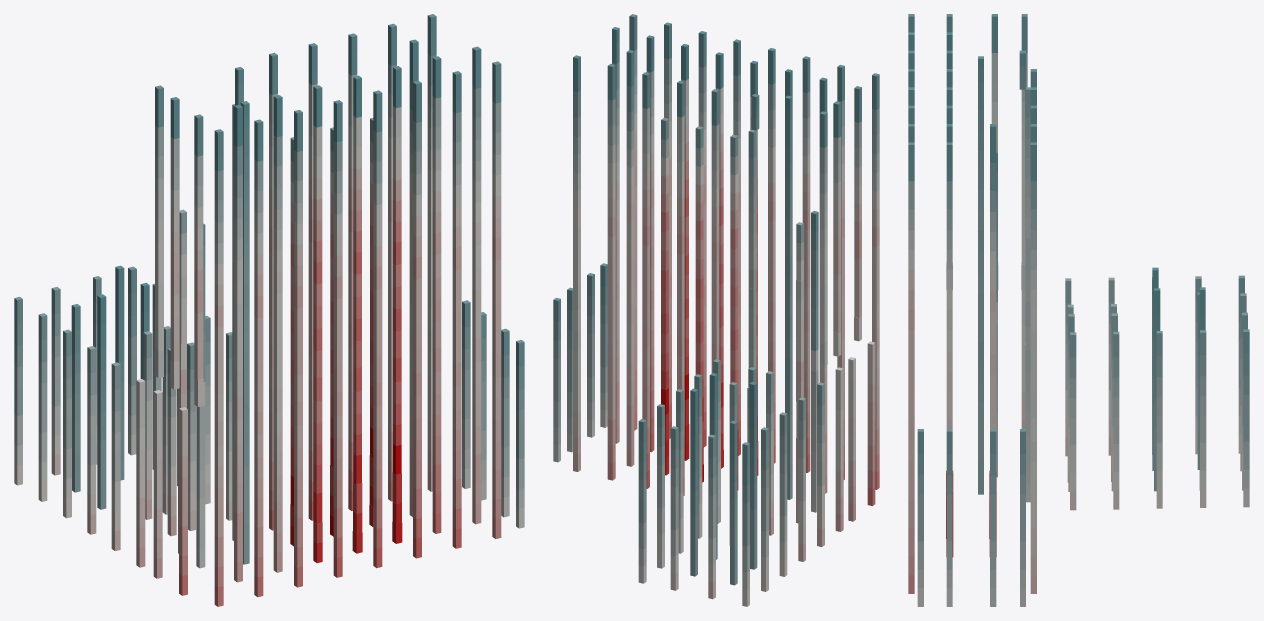
File: Rect-SRC_Fs310MPa.glb
3 views of the same model, side by side, from view 1: azimuth 30°, elevation 25°; view 2: azimuth 150°, elevation 25°; view 3: azimuth 270°, elevation 25° (orthographic). The views are drawn at different scales.
Parts seen in each view (by area): view 1: ACS_0180, ACS_0211, ACS_0182, ACS_0187, ACS_0247, ACS_0540, ACS_0243, ACS_0195; view 2: ACS_0180, ACS_0211, ACS_0149, ACS_0248, ACS_0187, ACS_0258, ACS_0198, ACS_0212, ACS_0175, ACS_0228, ACS_0265, ACS_0266 (+2 smaller); view 3: ACS_0180, ACS_0211, ACS_0149, ACS_0248, ACS_0182, ACS_0228.
Part boxes in pixels (x1,y1,x2,y2): ACS_0180: [243, 242, 249, 446]; ACS_0211: [243, 262, 249, 564]; ACS_0182: [492, 215, 501, 399]; ACS_0187: [294, 264, 302, 468]; ACS_0247: [273, 292, 282, 387]; ACS_0540: [97, 438, 106, 509]; ACS_0243: [214, 326, 223, 467]; ACS_0195: [273, 249, 282, 433]; ACS_0180: [785, 218, 792, 396]; ACS_0211: [785, 236, 792, 499]; ACS_0149: [748, 212, 756, 350]; ACS_0248: [573, 227, 580, 350]; ACS_0187: [802, 191, 810, 369]; ACS_0258: [626, 241, 634, 363]; ACS_0198: [607, 198, 615, 358]; ACS_0212: [626, 202, 634, 381]; ACS_0175: [819, 227, 827, 323]; ACS_0228: [573, 208, 580, 411]; ACS_0265: [642, 264, 649, 327]; ACS_0266: [677, 272, 684, 335]; ACS_0180: [978, 190, 983, 382]; ACS_0211: [978, 209, 983, 494]; ACS_0149: [1025, 178, 1030, 370]; ACS_0248: [1030, 330, 1036, 461]; ACS_0182: [908, 289, 914, 461]; ACS_0228: [1030, 309, 1036, 528].
Size of the model in its own units: 71.5 by 95.9 by 66.06.
